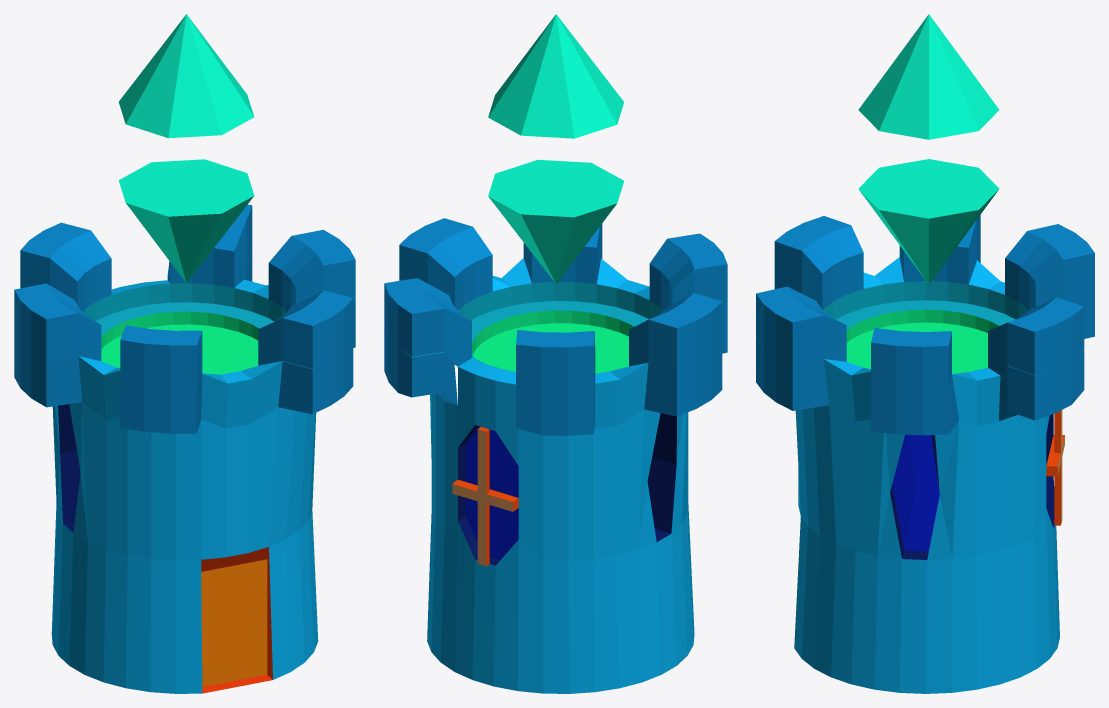
Rendered from Mage Tower.fbx.
3 views of the same model, side by side, from view 1: azimuth 30°, elevation 25°; view 2: azimuth 150°, elevation 25°; view 3: azimuth 270°, elevation 25° (orthographic).
Parts seen in each view (by area): view 1: Cylinder, Cone.001, Cone; view 2: Cylinder, Cone, Cone.001; view 3: Cylinder, Cone, Cone.001.
Part boxes in pixels (x1=…): Cylinder: x1=14, y1=204, x2=355, y2=693; Cone.001: x1=118, y1=159, x2=254, y2=283; Cone: x1=119, y1=14, x2=254, y2=138; Cylinder: x1=384, y1=218, x2=727, y2=693; Cone: x1=488, y1=14, x2=624, y2=138; Cone.001: x1=488, y1=159, x2=623, y2=283; Cylinder: x1=756, y1=215, x2=1094, y2=693; Cone: x1=858, y1=14, x2=999, y2=139; Cone.001: x1=858, y1=159, x2=999, y2=284.
Size of the model in its own units: 500 by 976 by 480.
